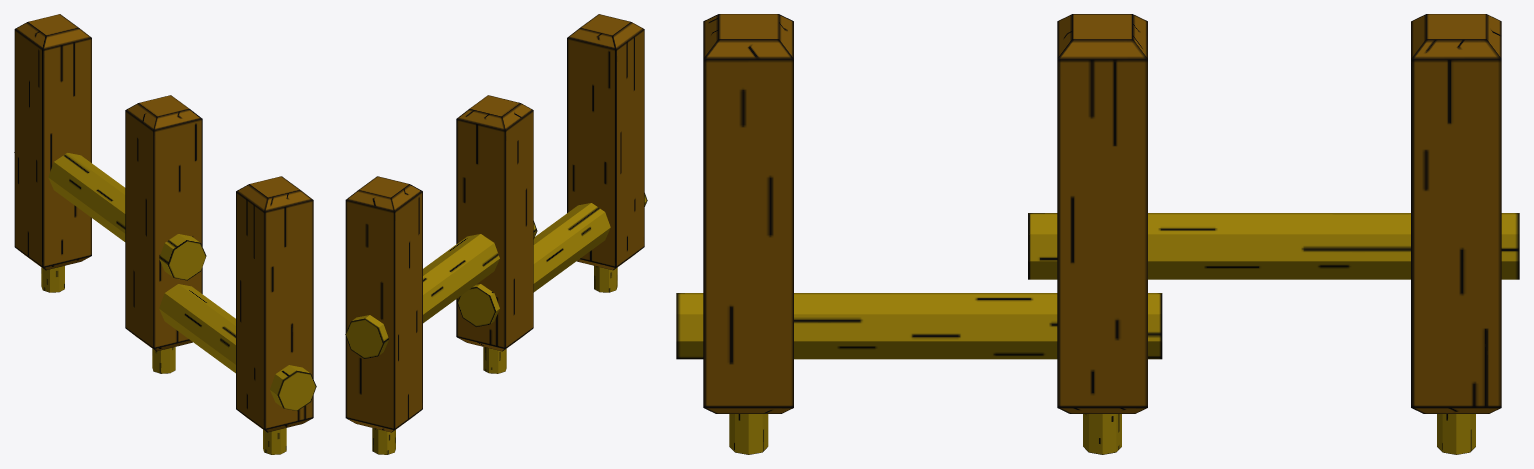
Rendered from Fence1_2.glb.
3 views of the same model, side by side, from view 1: azimuth 30°, elevation 25°; view 2: azimuth 150°, elevation 25°; view 3: azimuth 270°, elevation 25° (orthographic). The views are drawn at different scales.
Parts seen in each view (by area): view 1: Fence1_2; view 2: Fence1_2; view 3: Fence1_2.
Boxes of the visible parts, <box> form: Fence1_2: <box>14,14,316,454</box>; Fence1_2: <box>345,14,647,454</box>; Fence1_2: <box>676,14,1519,454</box>.
Bounding box in the file's own units: 0.2561 × 1.31 × 2.38.
Materials: 1 (1 with a texture image).
